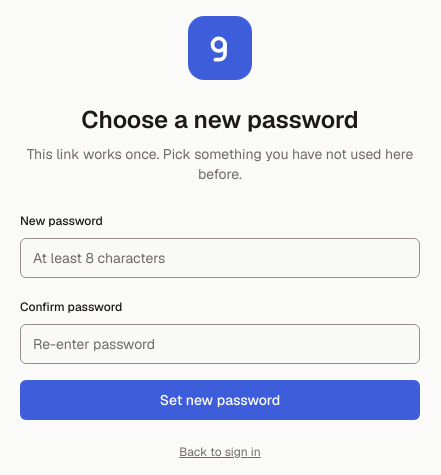
setting a new password › does not sign in on success
Type "a-good-password" into the password field labelled "New password". click: (220, 258)
box: [20,238,420,278]
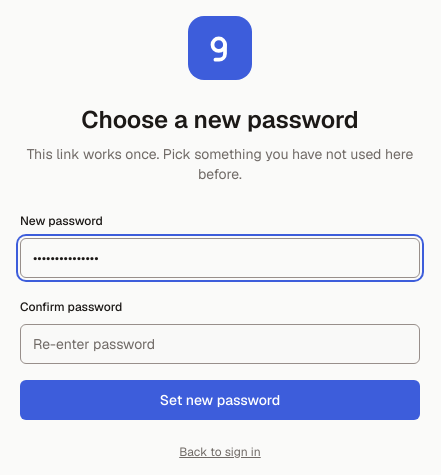
Type "a-good-password" into the password field labelled "Confirm password". click: (220, 344)
box: [20,324,420,364]
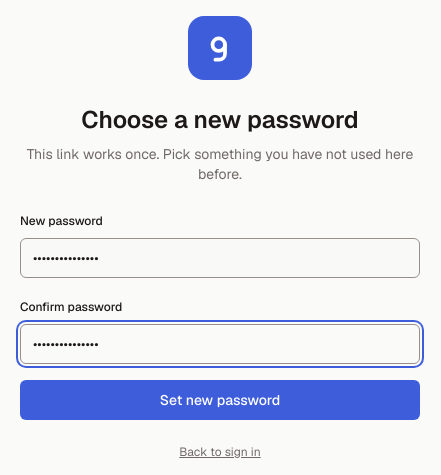
Click the button "Set new password". click: (220, 400)
box: [20,380,420,420]
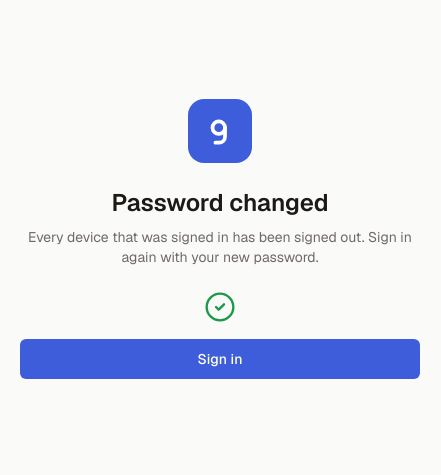
Check: the heading "Password changed" is shown, box [111,187,329,218]
